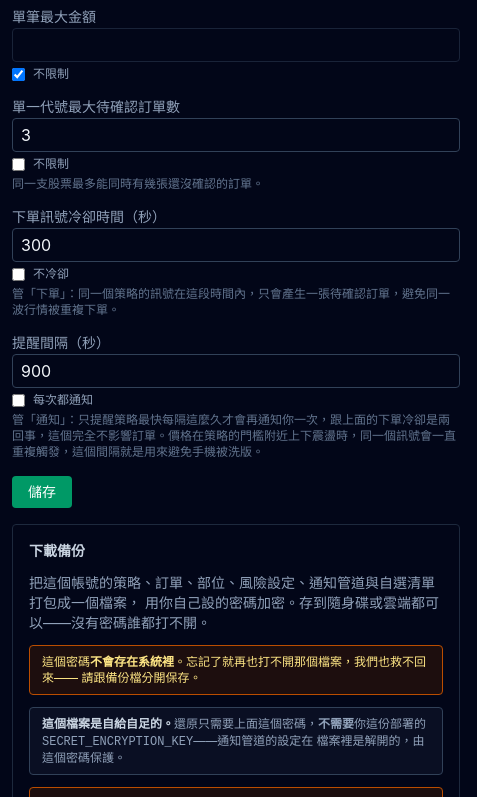
Test: RiskSettingsPage › words the throttles as more traffic rather than less protection
(page scrolled)
expect the checkbox named "下單訊號冷卻時間（秒）：不冷卻" is shown: met, box top-left (12, 268), bottom-right (25, 280)
Step 1. Click the checkbox named "提醒間隔（秒）：每次都通知" → click(18, 400), box top-left (12, 394), bottom-right (25, 406)
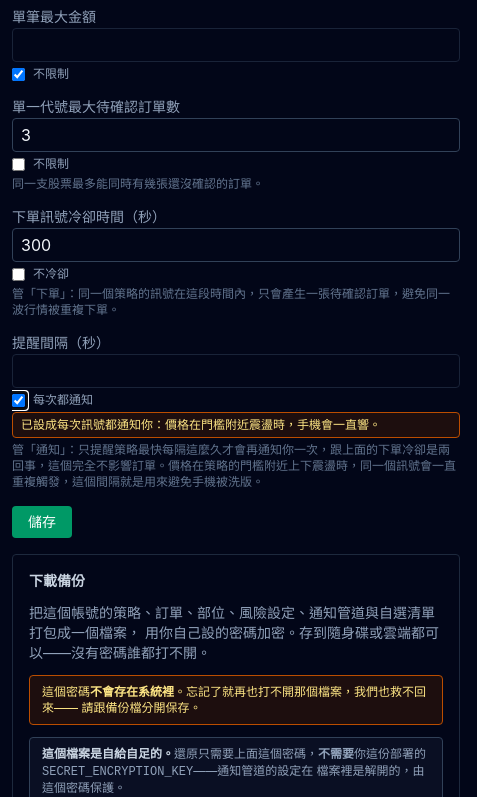
expect the text "已設成每次訊號都通知你：價格在門檻附近震盪時，手機會一直響。" is shown: met, box top-left (12, 412), bottom-right (460, 438)
